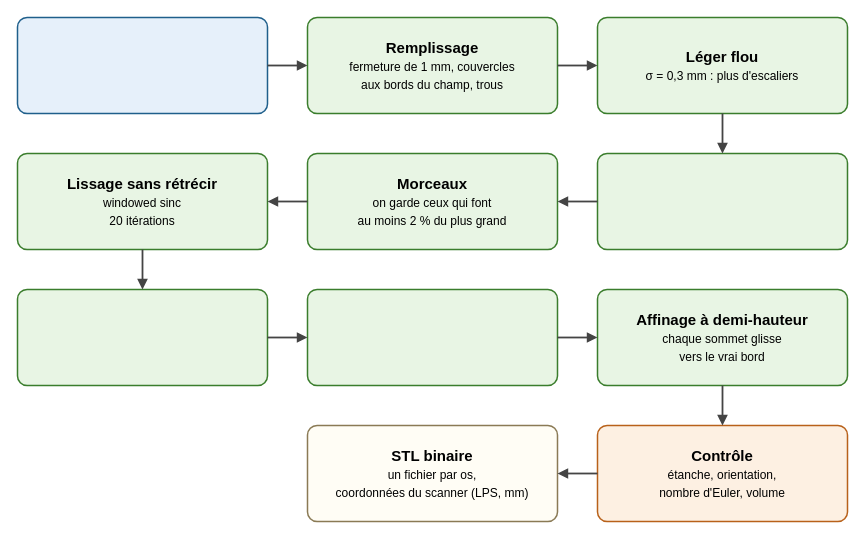
The diagram is 866 pixels wide and 540 high, and some of its shapes have lost their labels. The centre of each missing label's shape, as x and y in pixels:
"Décimation si plus de 150 000 triangles (seulement si reste étanche)" belongs at point 142,337.
"Marching cubes Flying Edges de VTK isovaleur 0,5" belongs at point 722,201.
"Masque de l'os étiquettes de l'os (ou du groupe)" belongs at point 142,65.
"Normales vers l'extérieur (volume signé > 0)" belongs at point 432,337.
